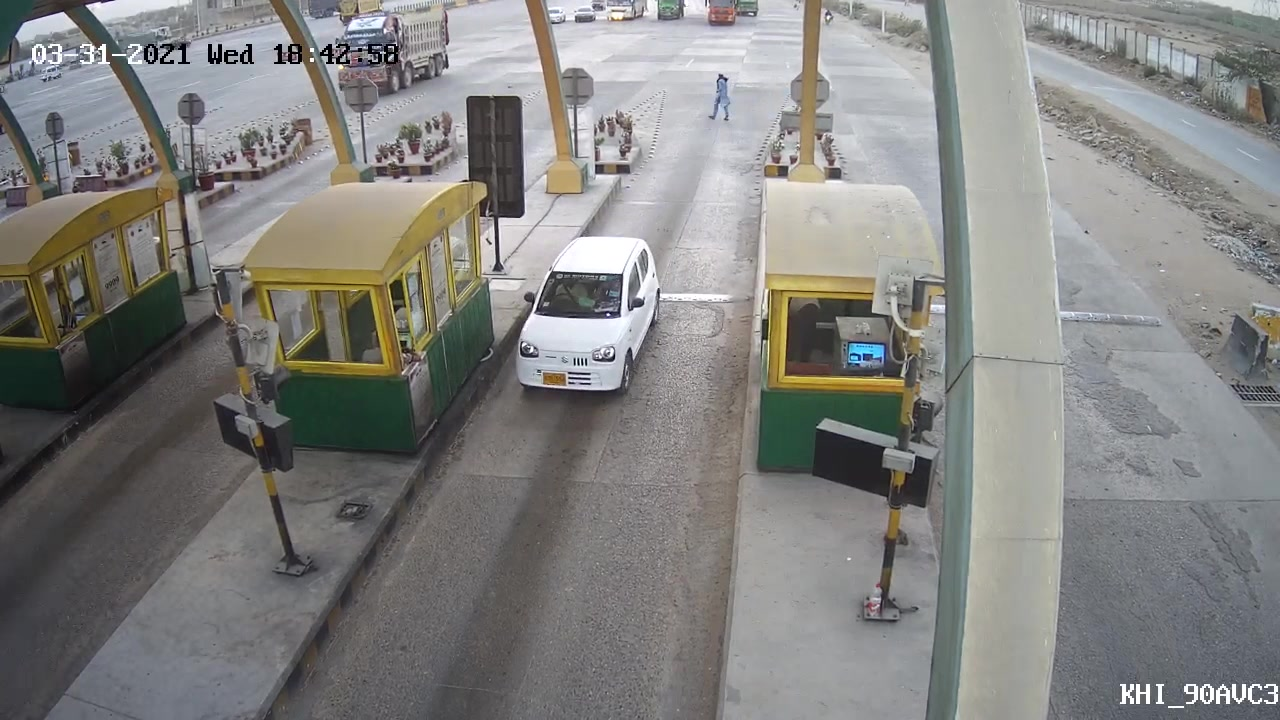F1: (494, 233, 671, 404)
